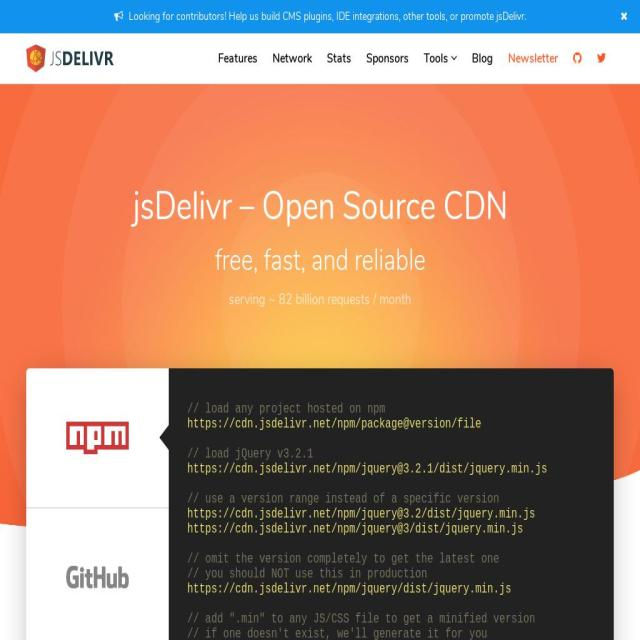button: (26, 368, 169, 508), (26, 507, 168, 640), (17, 34, 123, 84), (500, 35, 566, 83), (359, 35, 416, 83), (211, 35, 265, 83), (265, 35, 319, 83), (416, 35, 464, 83), (319, 35, 359, 83), (464, 35, 500, 83)
heading: (26, 184, 614, 228), (26, 244, 614, 277)
image: (0, 84, 640, 529), (26, 44, 114, 73), (65, 421, 128, 454), (65, 565, 128, 588)
link: (128, 8, 526, 24), (187, 506, 536, 522), (187, 462, 547, 476), (187, 522, 524, 536), (187, 582, 511, 596)
text: (26, 289, 614, 310), (187, 416, 547, 432), (187, 446, 547, 462), (187, 566, 547, 582), (186, 626, 547, 640), (187, 402, 547, 416), (187, 492, 547, 506), (187, 552, 547, 566), (187, 612, 547, 626), (424, 49, 451, 68)
